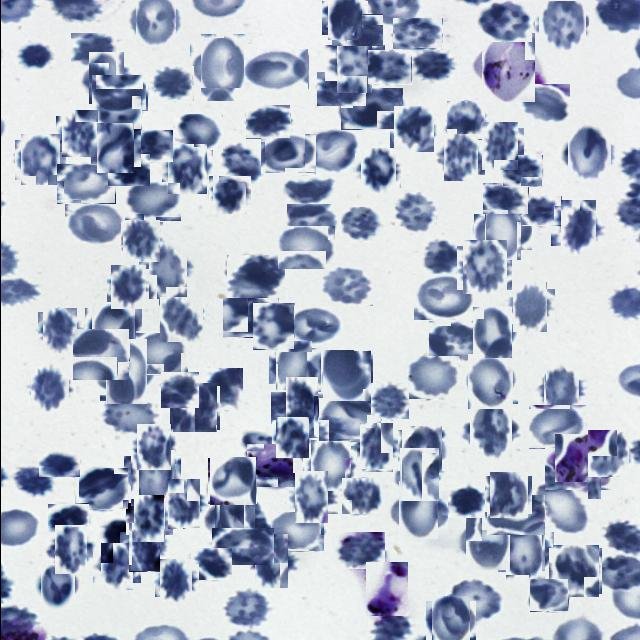difficult: (246, 444, 303, 488)
red blood cell: (194, 38, 250, 96), (72, 329, 129, 381), (98, 344, 152, 398), (226, 255, 284, 304), (413, 274, 474, 320), (242, 49, 308, 91), (318, 398, 381, 442), (464, 404, 516, 456), (208, 493, 259, 545), (536, 482, 587, 534), (339, 88, 402, 130), (564, 128, 614, 180), (460, 516, 512, 566), (528, 405, 586, 449), (277, 226, 335, 270), (464, 356, 515, 406), (87, 305, 138, 355), (99, 395, 160, 436), (550, 546, 600, 596), (126, 453, 176, 503), (321, 351, 371, 401), (458, 242, 508, 292), (536, 0, 587, 49), (64, 203, 123, 245), (428, 321, 485, 364), (405, 356, 460, 400), (393, 486, 442, 535), (56, 164, 115, 204), (486, 495, 544, 535), (304, 130, 359, 172), (478, 208, 526, 256), (501, 528, 549, 576), (142, 247, 190, 295), (330, 39, 378, 87), (170, 384, 218, 432), (211, 528, 273, 565), (135, 331, 187, 375), (124, 182, 181, 222), (74, 468, 128, 510), (446, 580, 501, 621), (222, 298, 278, 338), (278, 384, 324, 432), (396, 450, 442, 498), (260, 134, 315, 174), (286, 203, 339, 244), (478, 1, 531, 42), (208, 458, 255, 504), (318, 266, 372, 306), (270, 512, 324, 552), (307, 442, 353, 488), (555, 205, 601, 251), (221, 588, 272, 629), (514, 84, 569, 122), (17, 136, 62, 182), (468, 310, 514, 355), (132, 0, 179, 44), (27, 366, 72, 411), (399, 428, 444, 473), (164, 147, 209, 192), (90, 75, 146, 111), (252, 303, 294, 350), (538, 368, 582, 412), (84, 56, 128, 100), (158, 298, 202, 342), (93, 126, 137, 170), (586, 431, 630, 475), (249, 539, 293, 583), (306, 352, 359, 388), (391, 107, 434, 151), (218, 142, 264, 183), (272, 344, 314, 388), (428, 599, 473, 640), (174, 114, 222, 152), (508, 285, 550, 328), (394, 192, 436, 235), (477, 125, 520, 167), (336, 532, 384, 569), (486, 474, 528, 516), (58, 113, 100, 155), (290, 476, 332, 518), (162, 483, 204, 524), (354, 427, 396, 468), (331, 14, 383, 47), (290, 309, 340, 343), (440, 137, 481, 178), (202, 368, 242, 410), (316, 72, 365, 106), (70, 33, 116, 68), (410, 48, 456, 83), (36, 567, 76, 607), (392, 18, 442, 50), (40, 310, 80, 350), (108, 267, 148, 307), (120, 221, 160, 261), (357, 150, 397, 190), (96, 547, 136, 587), (50, 530, 90, 570), (124, 528, 164, 568), (133, 426, 173, 466), (94, 96, 141, 130), (324, 0, 364, 39), (128, 499, 168, 538), (367, 50, 411, 85), (245, 105, 290, 139), (340, 206, 382, 242), (283, 176, 336, 204), (342, 476, 379, 516), (482, 183, 528, 215), (446, 100, 484, 138), (210, 174, 248, 212), (156, 562, 194, 600), (272, 418, 310, 456), (424, 239, 462, 276), (152, 66, 192, 101), (9, 466, 54, 497), (370, 383, 408, 419), (160, 372, 198, 408), (107, 154, 149, 186), (188, 548, 230, 580), (529, 578, 568, 612), (502, 155, 542, 187), (133, 130, 172, 162), (47, 502, 88, 532), (521, 196, 561, 226), (38, 448, 79, 476), (451, 484, 484, 518), (15, 43, 54, 70)
trophozoite: (476, 37, 538, 98), (549, 439, 605, 495), (365, 562, 407, 616)
